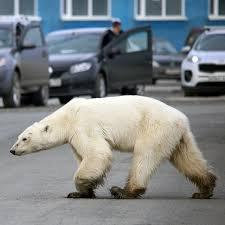bear: (11, 96, 218, 200)
